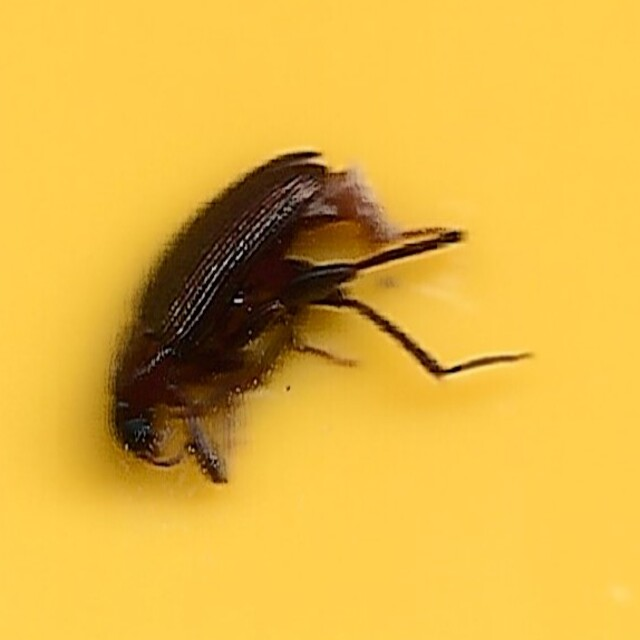Coleoptera: (111, 148, 529, 492)
